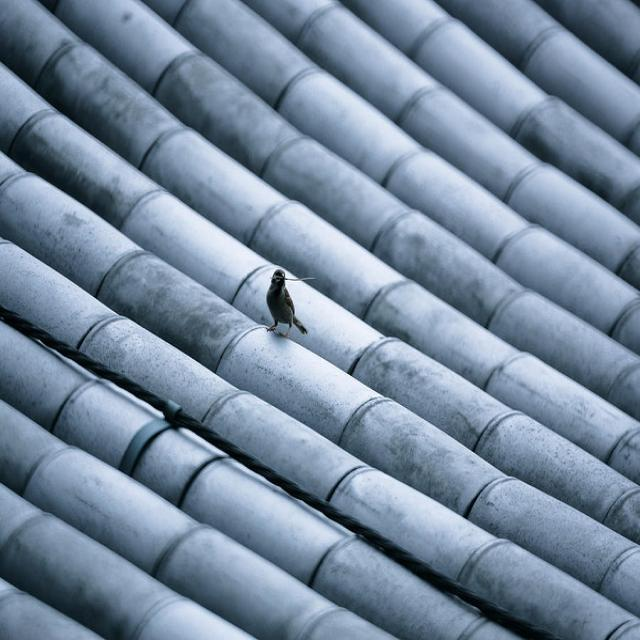bird: (266, 268, 308, 338)
